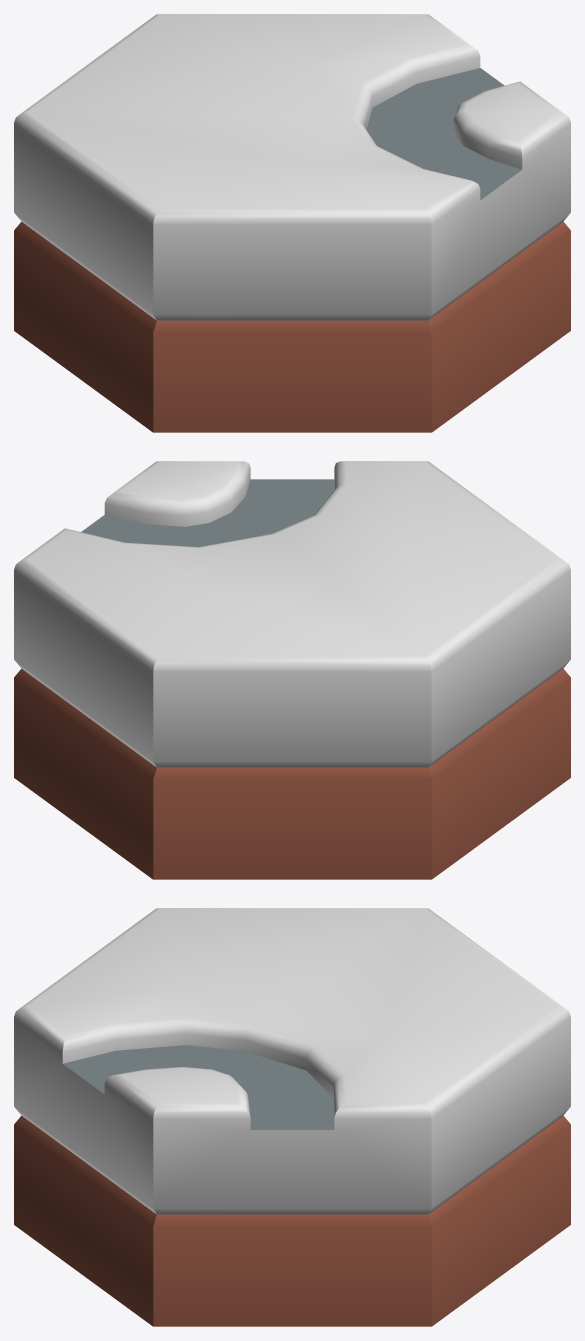
File: hex_snow_roadC_detail.gltf.glb
3 renders of one model, top to bottom at view 1: azimuth 30°, elevation 25°; view 2: azimuth 150°, elevation 25°; view 3: azimuth 270°, elevation 25°, orthographic.
Parts seen in each view (by area): view 1: hex_snow_roadC_detail; view 2: hex_snow_roadC_detail; view 3: hex_snow_roadC_detail.
Boxes of the visible parts, bbox=[...] form: hex_snow_roadC_detail: bbox=[14, 14, 570, 432]; hex_snow_roadC_detail: bbox=[14, 461, 570, 879]; hex_snow_roadC_detail: bbox=[14, 908, 570, 1326].
Bounding box in the file's own units: 2 × 1 × 2.31.
